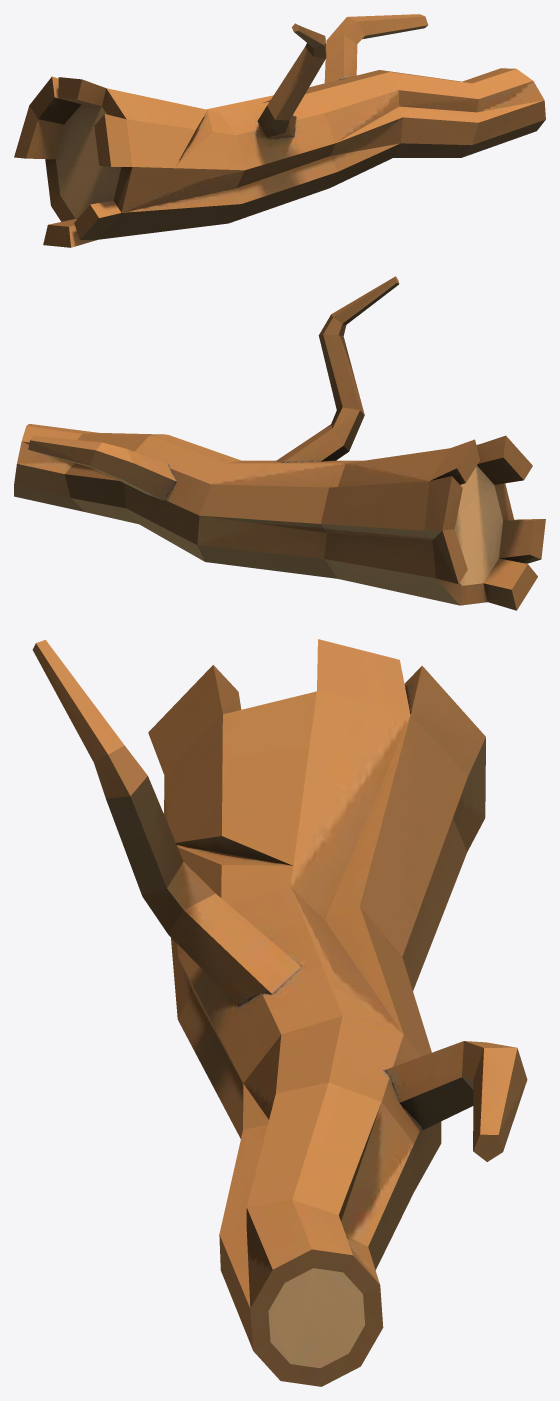
The model's file is dkRLlPSdgdR.glb.
3 views of the same model, one above another, from view 1: azimuth 30°, elevation 25°; view 2: azimuth 150°, elevation 25°; view 3: azimuth 270°, elevation 25° (orthographic). The views are drawn at different scales.
Visible parts, largest first — view 1: log; view 2: log; view 3: log.
Boxes of the visible parts, bbox=[...] form: log: bbox=[14, 14, 545, 247]; log: bbox=[14, 276, 545, 610]; log: bbox=[32, 639, 527, 1386].
Bounding box in the file's own units: 2.13 × 0.9999 × 0.9355.
Materials: 1 (1 with a texture image).
